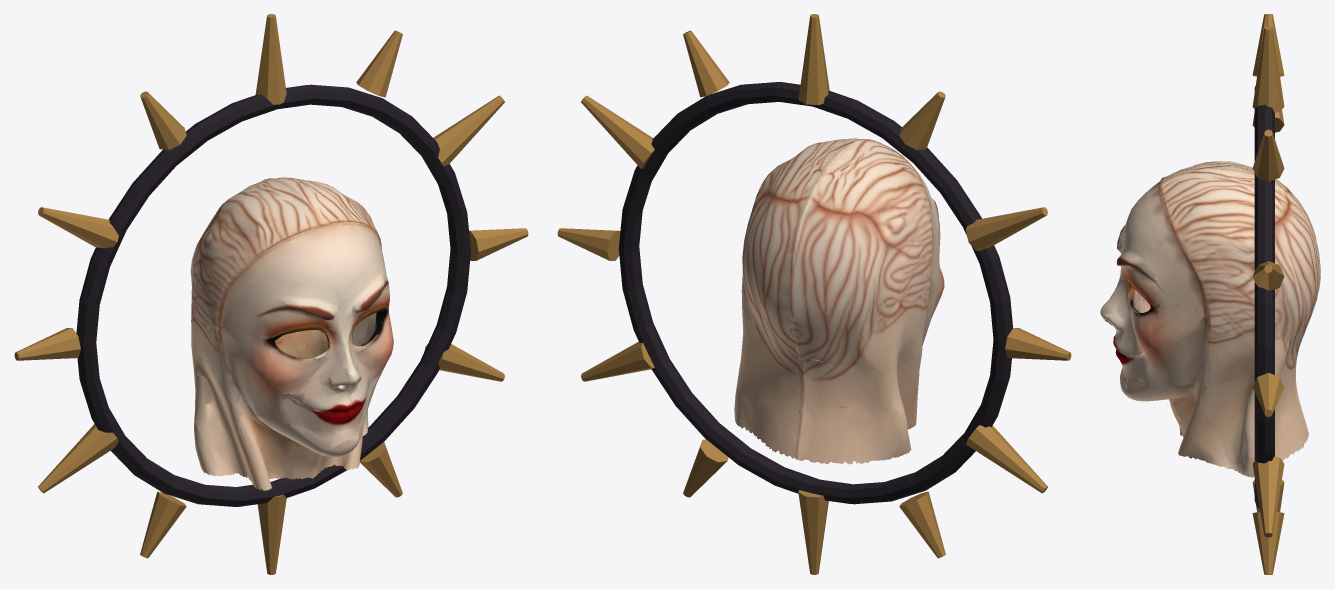
The model's file is mask-eclipse-oracle.glb.
The picture shows the model from 3 angles, left to right: view 1: azimuth 30°, elevation 25°; view 2: azimuth 150°, elevation 25°; view 3: azimuth 270°, elevation 25°; orthographic projection. The views are drawn at different scales.
Visible parts, largest first — view 1: Banquet_Mask_Eclipse_Oracle_Mesh_01, Eclipse_Oracle_Halo, Eclipse_Oracle_Ray_09, Eclipse_Oracle_Ray_01, Eclipse_Oracle_Ray_03, Eclipse_Oracle_Ray_11, Eclipse_Oracle_Ray_07, Eclipse_Oracle_Ray_02, Eclipse_Oracle_Ray_08, Eclipse_Oracle_Ray_10, Eclipse_Oracle_Ray_12, Eclipse_Oracle_Ray_05 (+2 smaller); view 2: Banquet_Mask_Eclipse_Oracle_Mesh_01, Eclipse_Oracle_Halo, Eclipse_Oracle_Ray_09, Eclipse_Oracle_Ray_01, Eclipse_Oracle_Ray_03, Eclipse_Oracle_Ray_11, Eclipse_Oracle_Ray_07, Eclipse_Oracle_Ray_02, Eclipse_Oracle_Ray_05, Eclipse_Oracle_Ray_08, Eclipse_Oracle_Ray_10, Eclipse_Oracle_Ray_12 (+2 smaller); view 3: Banquet_Mask_Eclipse_Oracle_Mesh_01, Eclipse_Oracle_Halo, Eclipse_Oracle_Ray_01, Eclipse_Oracle_Ray_05, Eclipse_Oracle_Ray_02, Eclipse_Oracle_Ray_06, Eclipse_Oracle_Ray_04, Eclipse_Oracle_Ray_03, Eclipse_Oracle_Ray_12.
Boxes of the visible parts, bbox=[...] form: Banquet_Mask_Eclipse_Oracle_Mesh_01: bbox=[190, 177, 393, 490]; Eclipse_Oracle_Halo: bbox=[76, 84, 470, 506]; Eclipse_Oracle_Ray_09: bbox=[38, 424, 118, 493]; Eclipse_Oracle_Ray_01: bbox=[255, 14, 286, 104]; Eclipse_Oracle_Ray_03: bbox=[433, 95, 504, 166]; Eclipse_Oracle_Ray_11: bbox=[38, 207, 118, 248]; Eclipse_Oracle_Ray_07: bbox=[257, 494, 286, 574]; Eclipse_Oracle_Ray_02: bbox=[356, 30, 402, 97]; Eclipse_Oracle_Ray_08: bbox=[140, 491, 186, 558]; Eclipse_Oracle_Ray_10: bbox=[14, 328, 80, 360]; Eclipse_Oracle_Ray_12: bbox=[140, 91, 186, 150]; Eclipse_Oracle_Ray_05: bbox=[424, 344, 504, 381]; Banquet_Mask_Eclipse_Oracle_Mesh_01: bbox=[734, 138, 944, 464]; Eclipse_Oracle_Halo: bbox=[618, 82, 1012, 504]; Eclipse_Oracle_Ray_09: bbox=[966, 425, 1047, 493]; Eclipse_Oracle_Ray_01: bbox=[798, 14, 829, 105]; Eclipse_Oracle_Ray_03: bbox=[581, 95, 654, 168]; Eclipse_Oracle_Ray_11: bbox=[966, 207, 1047, 250]; Eclipse_Oracle_Ray_07: bbox=[798, 490, 828, 574]; Eclipse_Oracle_Ray_02: bbox=[683, 30, 729, 97]; Eclipse_Oracle_Ray_05: bbox=[581, 341, 654, 381]; Eclipse_Oracle_Ray_08: bbox=[899, 491, 945, 558]; Eclipse_Oracle_Ray_10: bbox=[1005, 328, 1071, 360]; Eclipse_Oracle_Ray_12: bbox=[899, 91, 945, 150]; Banquet_Mask_Eclipse_Oracle_Mesh_01: bbox=[1100, 161, 1320, 477]; Eclipse_Oracle_Halo: bbox=[1254, 86, 1274, 508]; Eclipse_Oracle_Ray_01: bbox=[1252, 26, 1284, 112]; Eclipse_Oracle_Ray_05: bbox=[1252, 456, 1284, 537]; Eclipse_Oracle_Ray_02: bbox=[1252, 129, 1284, 181]; Eclipse_Oracle_Ray_06: bbox=[1252, 512, 1284, 574]; Eclipse_Oracle_Ray_04: bbox=[1252, 373, 1284, 417]; Eclipse_Oracle_Ray_03: bbox=[1252, 261, 1284, 290]; Eclipse_Oracle_Ray_12: bbox=[1252, 14, 1284, 76].
Size of the model in its own units: 0.775 by 0.81 by 0.3035.
3 materials, 1 textured.
